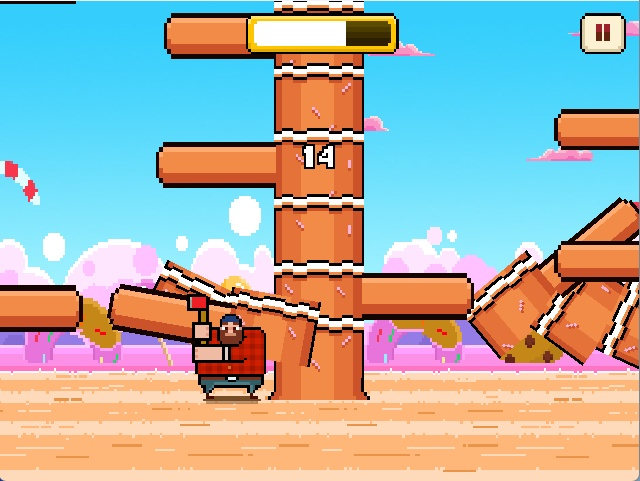left_obs: (149, 132, 283, 198)
timberman: (180, 292, 276, 405)
